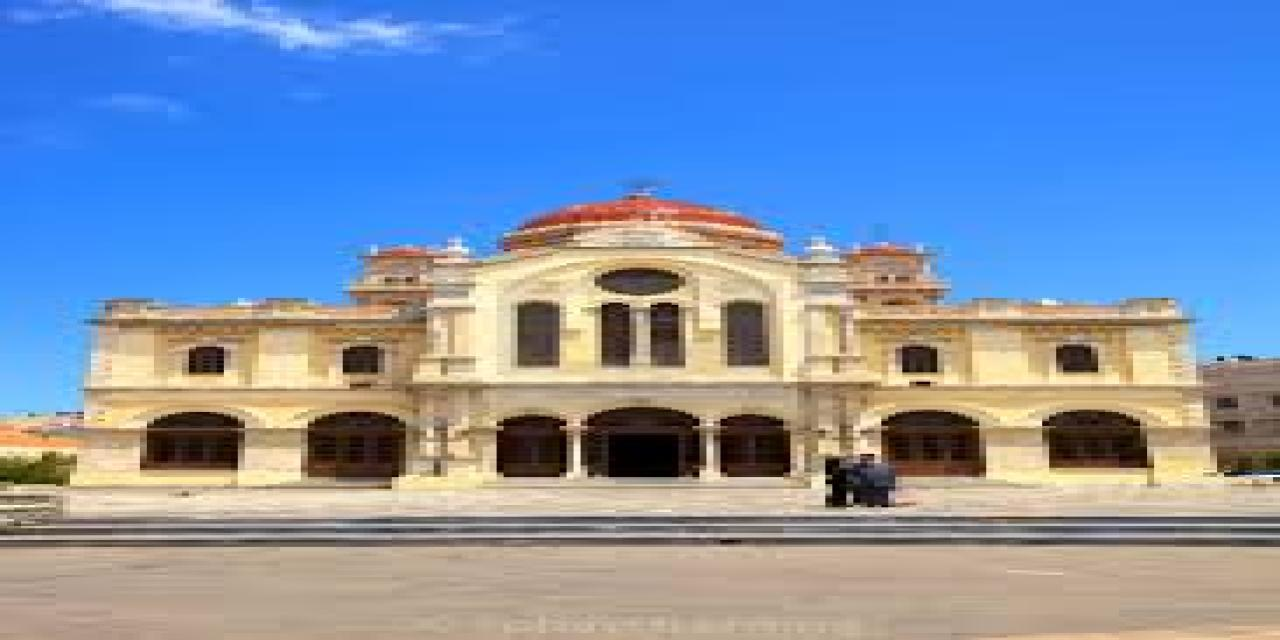Agios Minas: (84, 174, 1211, 487)
